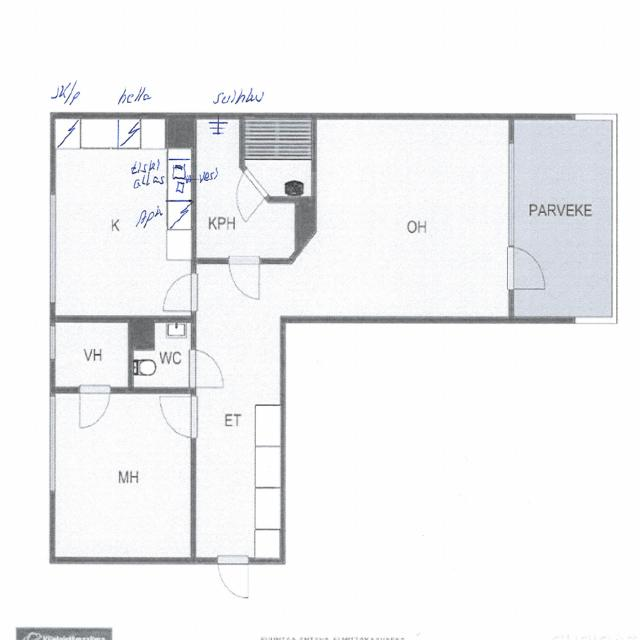door: (225, 169, 268, 223), (509, 248, 547, 289), (159, 396, 196, 436), (218, 556, 248, 601), (80, 388, 110, 430), (162, 275, 196, 311), (230, 258, 259, 300), (192, 351, 226, 386)
